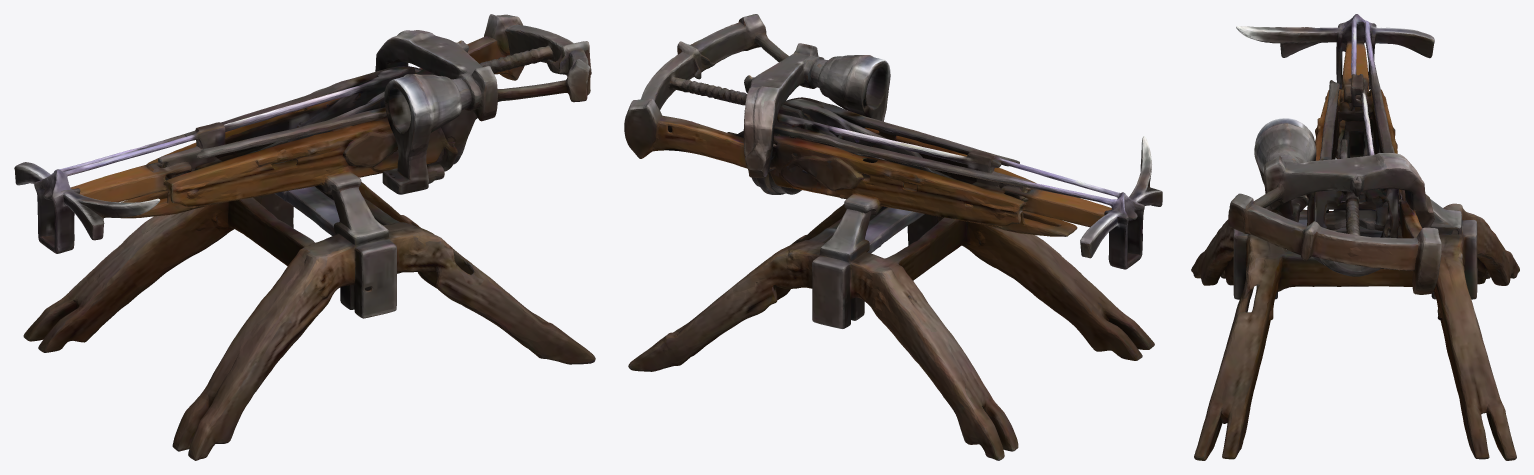
The model's file is war_ballista_01.glb.
The picture shows the model from 3 angles, left to right: view 1: azimuth 30°, elevation 25°; view 2: azimuth 150°, elevation 25°; view 3: azimuth 270°, elevation 25°; orthographic projection. The views are drawn at different scales.
Parts seen in each view (by area): view 1: geometry_0; view 2: geometry_0; view 3: geometry_0.
Boxes of the visible parts, bbox=[...] form: geometry_0: bbox=[14, 14, 595, 460]; geometry_0: bbox=[624, 14, 1162, 460]; geometry_0: bbox=[1191, 14, 1519, 460].
Bounding box in the file's own units: 1 × 0.5252 × 0.5669.
1 material, 1 textured.
